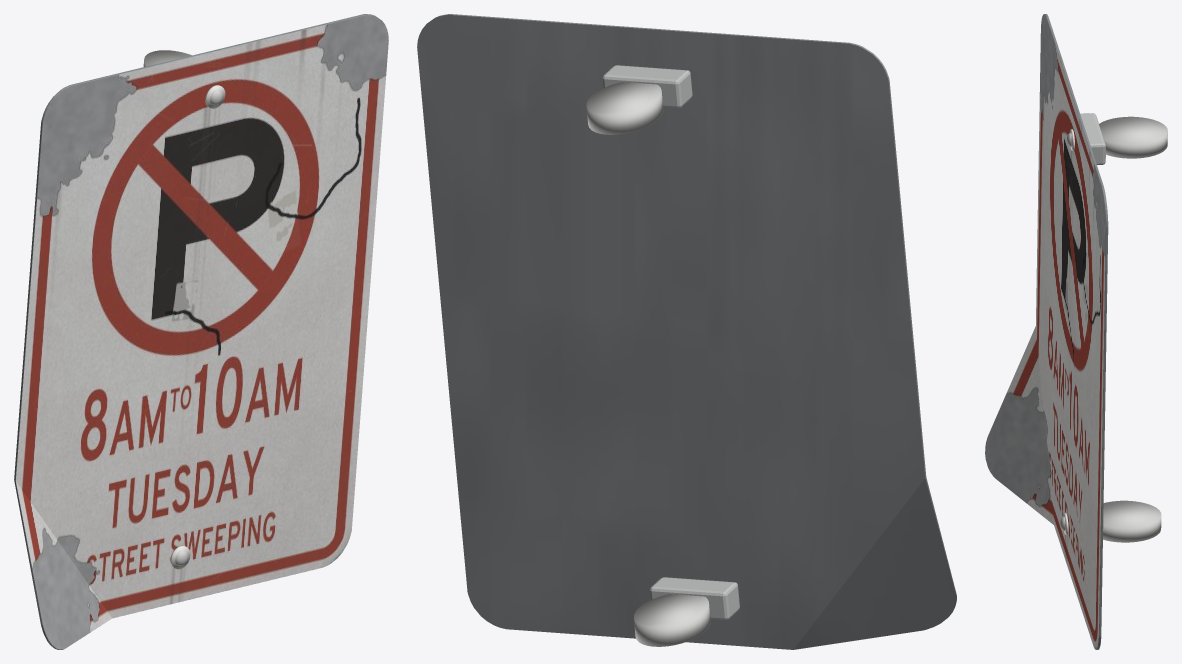
The model's file is streetCleaning-v1-battered.glb.
3 renders of one model, left to right at view 1: azimuth 30°, elevation 25°; view 2: azimuth 150°, elevation 25°; view 3: azimuth 270°, elevation 25°, orthographic. The views are drawn at different scales.
Visible parts, largest first — view 1: streetCleaning-v1-battered; view 2: streetCleaning-v1-battered; view 3: streetCleaning-v1-battered.
Boxes of the visible parts, x1=… form: streetCleaning-v1-battered: x1=14, y1=14, x2=388, y2=649; streetCleaning-v1-battered: x1=417, y1=14, x2=956, y2=649; streetCleaning-v1-battered: x1=985, y1=14, x2=1167, y2=649.
Bounding box in the file's own units: 0.3659 × 0.4815 × 0.1569.
Materials: 1 (1 with a texture image).
